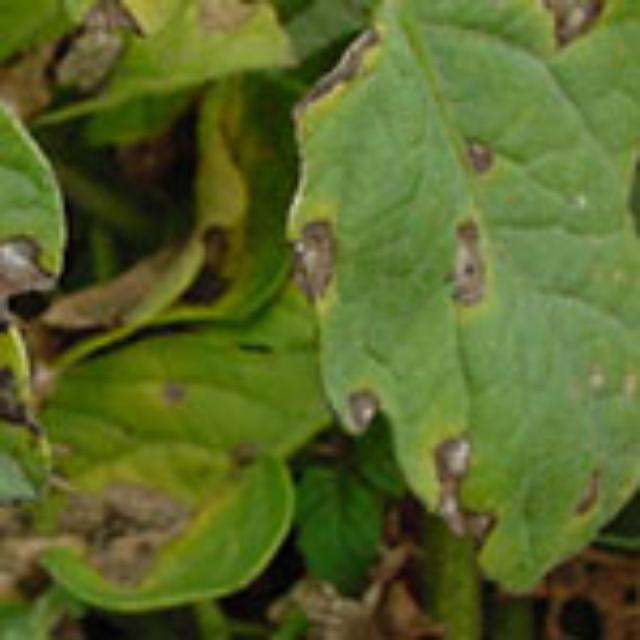Early_blight: (1, 471, 200, 603), (42, 223, 235, 327), (4, 1, 146, 124), (290, 21, 385, 114), (431, 432, 498, 547), (284, 211, 338, 307), (2, 236, 55, 327), (450, 214, 499, 311), (543, 1, 617, 50), (193, 3, 264, 36), (342, 377, 381, 431), (465, 135, 499, 181), (574, 464, 603, 516), (158, 376, 190, 411), (232, 438, 257, 473)
